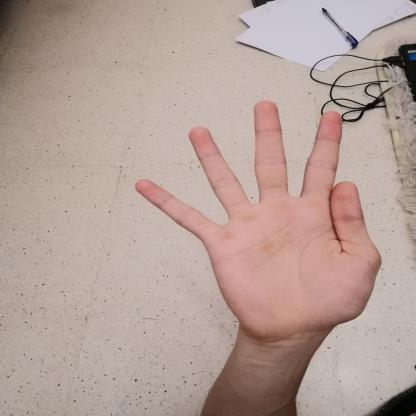SHEEN: (120, 92, 391, 350)
